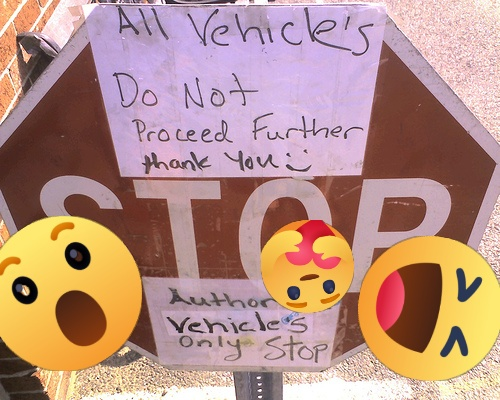care: (261, 220, 354, 313)
haha: (358, 236, 500, 381)
wow: (0, 216, 142, 371)
